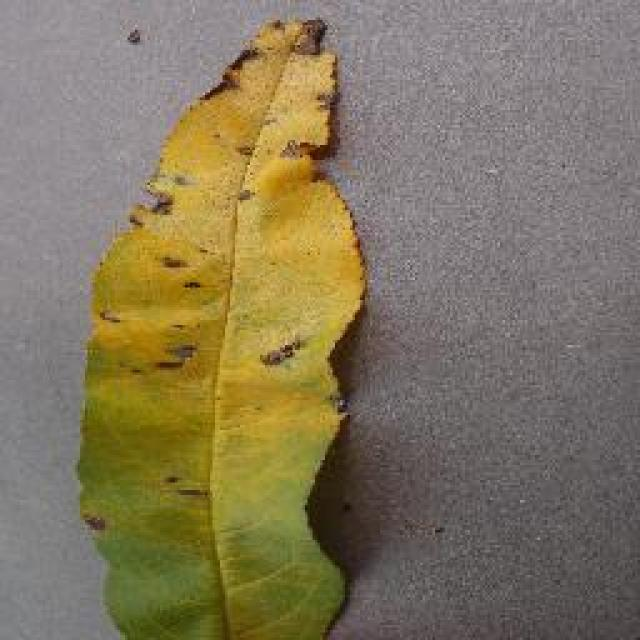Peach_Bacterial_Spot: (162, 60, 323, 518)
